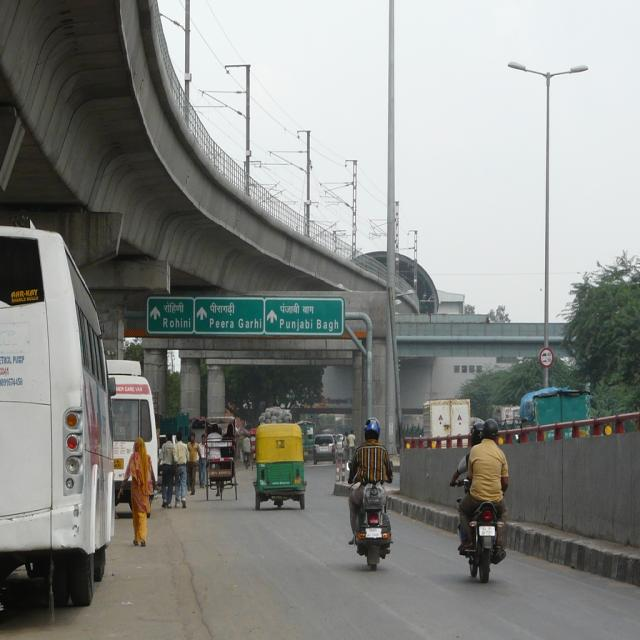car: (313, 434, 338, 464)
